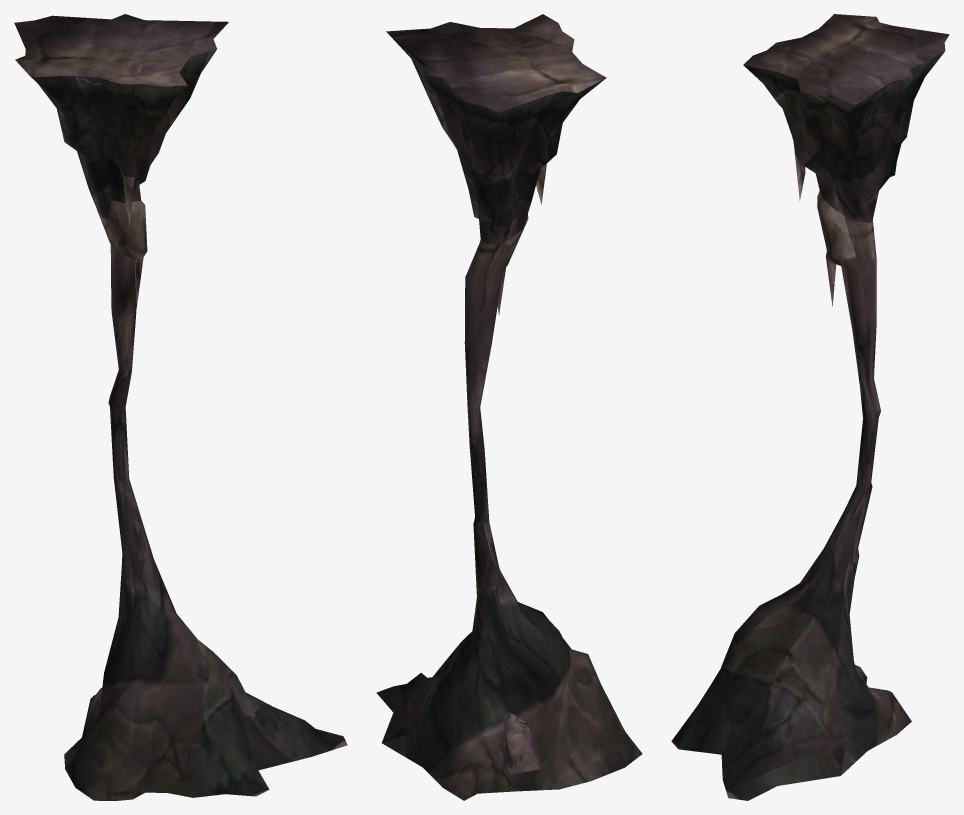
The model's file is S_Rock_Black093.FBX.
3 renders of one model, left to right at view 1: azimuth 30°, elevation 25°; view 2: azimuth 150°, elevation 25°; view 3: azimuth 270°, elevation 25°, orthographic. The views are drawn at different scales.
Visible parts, largest first — view 1: S_Rock_Black093; view 2: S_Rock_Black093; view 3: S_Rock_Black093.
Part boxes in pixels (x1,y1,x2,y2): S_Rock_Black093: [14, 14, 347, 800]; S_Rock_Black093: [376, 14, 642, 800]; S_Rock_Black093: [671, 14, 949, 800].
Bounding box in the file's own units: 588 × 553 × 1452.
